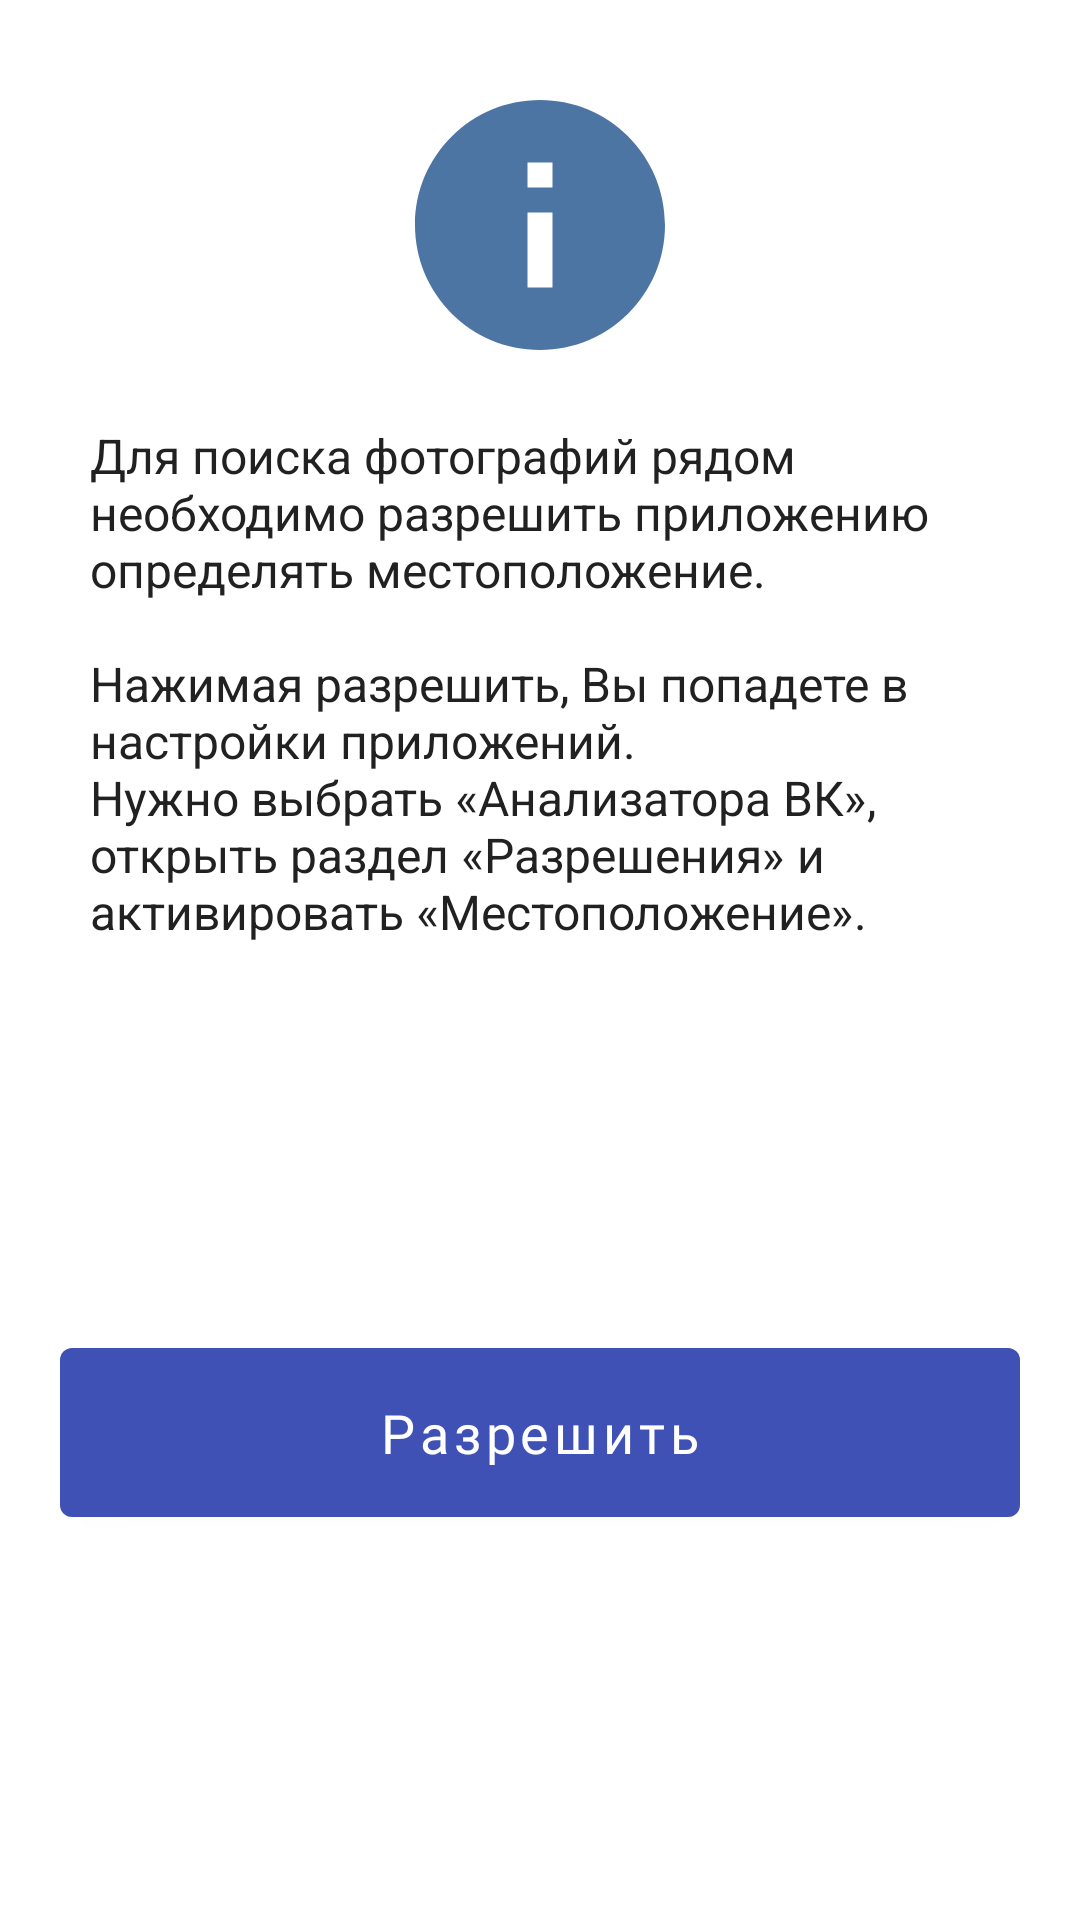

Where to tap for icons on this 1080px x 1920px app screen, as [x,y]:
info: [540,225]
